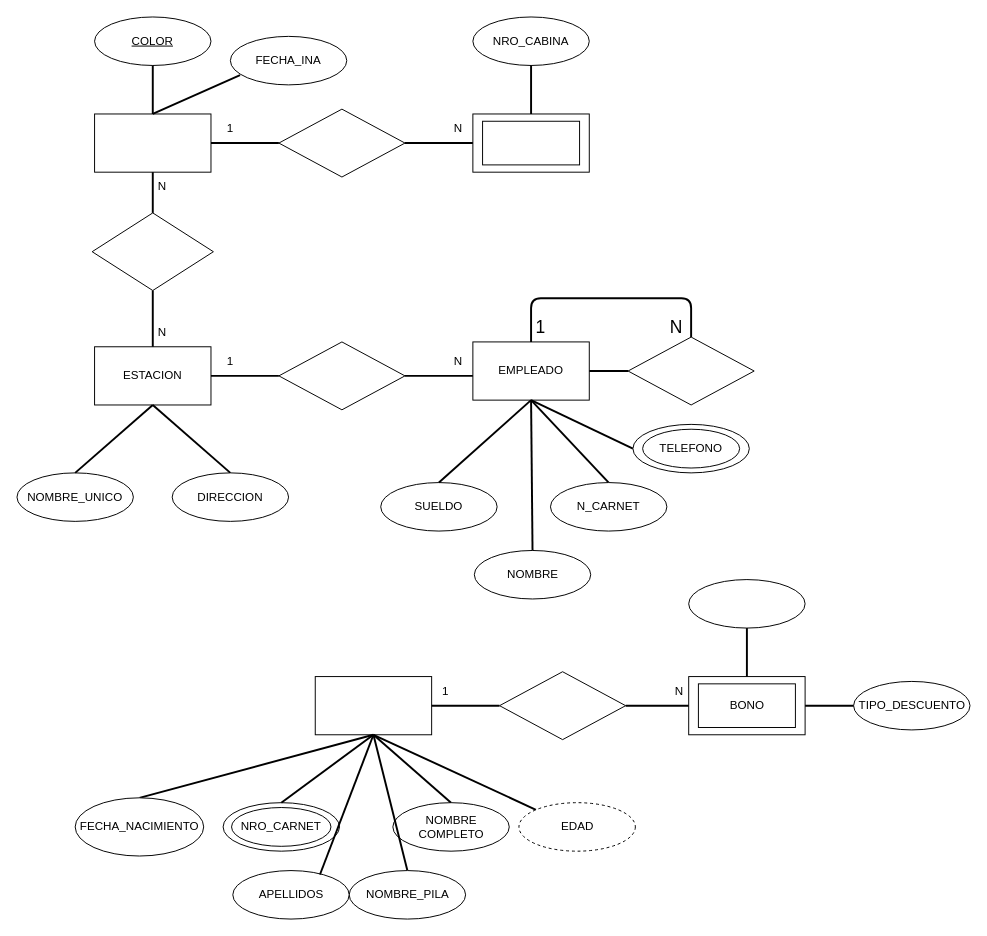
Image size: 987x936. Some labels were removed from this diagram. Each missing label, with the centre of its shape:
"CABINAS" belongs at (x=531, y=142).
"COD_BENEFICIO" belongs at (x=746, y=603).
"LINEA" belongs at (x=152, y=142).
"PASAJEROS" belongs at (x=373, y=705).
"POSEE" belongs at (x=562, y=705).
"RECORRE" belongs at (x=152, y=251).
"SUPERVISA" belongs at (x=690, y=370).
"TIENE" belongs at (x=341, y=142).
"TRABAJA_EN" belongs at (x=341, y=375).
